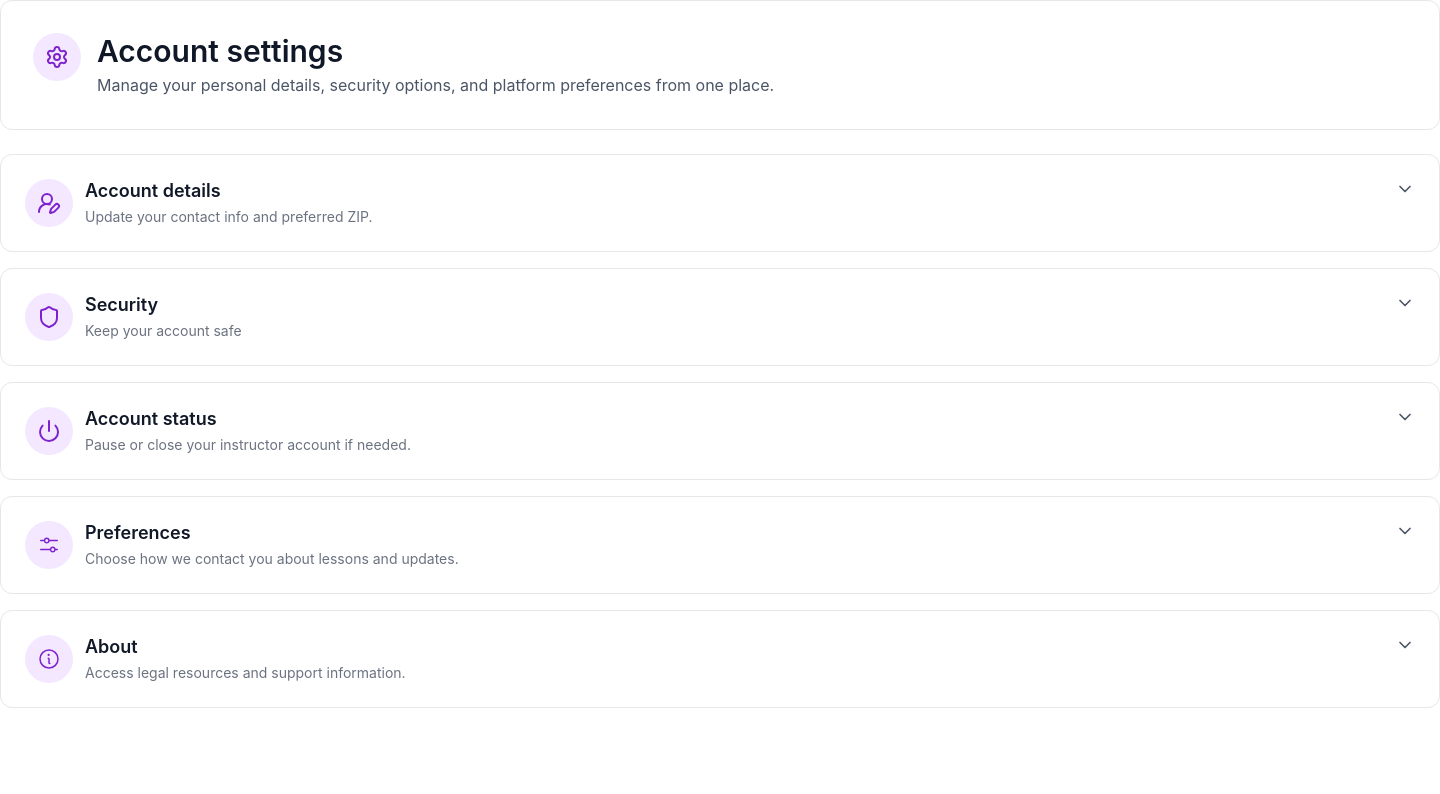
SettingsImpl › renders the enabled 2FA state and opens the disable flow from the merged Security section
The width and height of the screenshot is (1440, 794).
Click the button "Security Keep your account safe". click: (49, 317)
box: [25,293,1415,341]
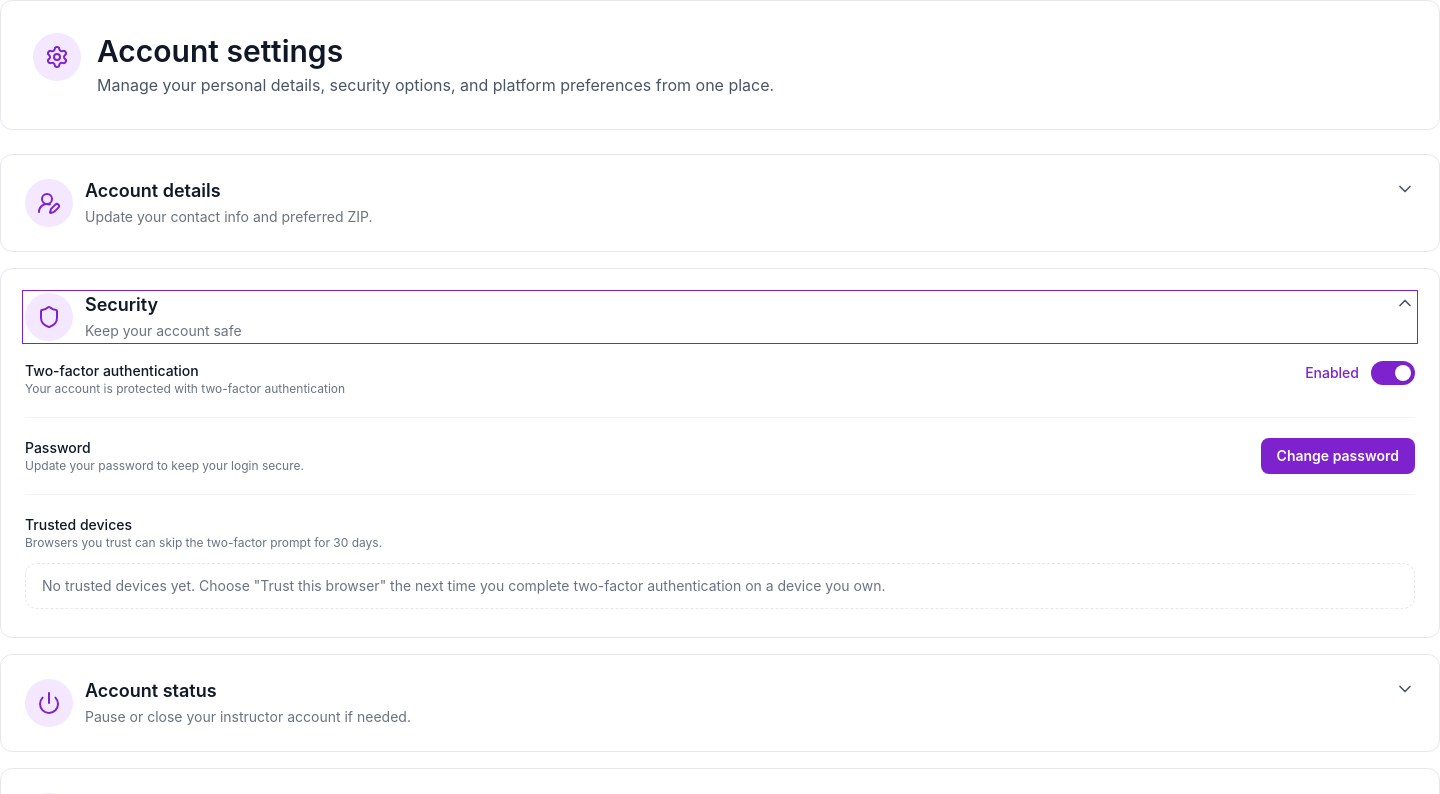
Expected: the text "Enabled" is shown, [1305,363,1359,383]
Expected: the text "Your account is protected with two-factor authentication" is shown, [25,381,345,397]
Click the switch named "Two-factor authentication". click: (1393, 373)
box: [1371,361,1415,385]
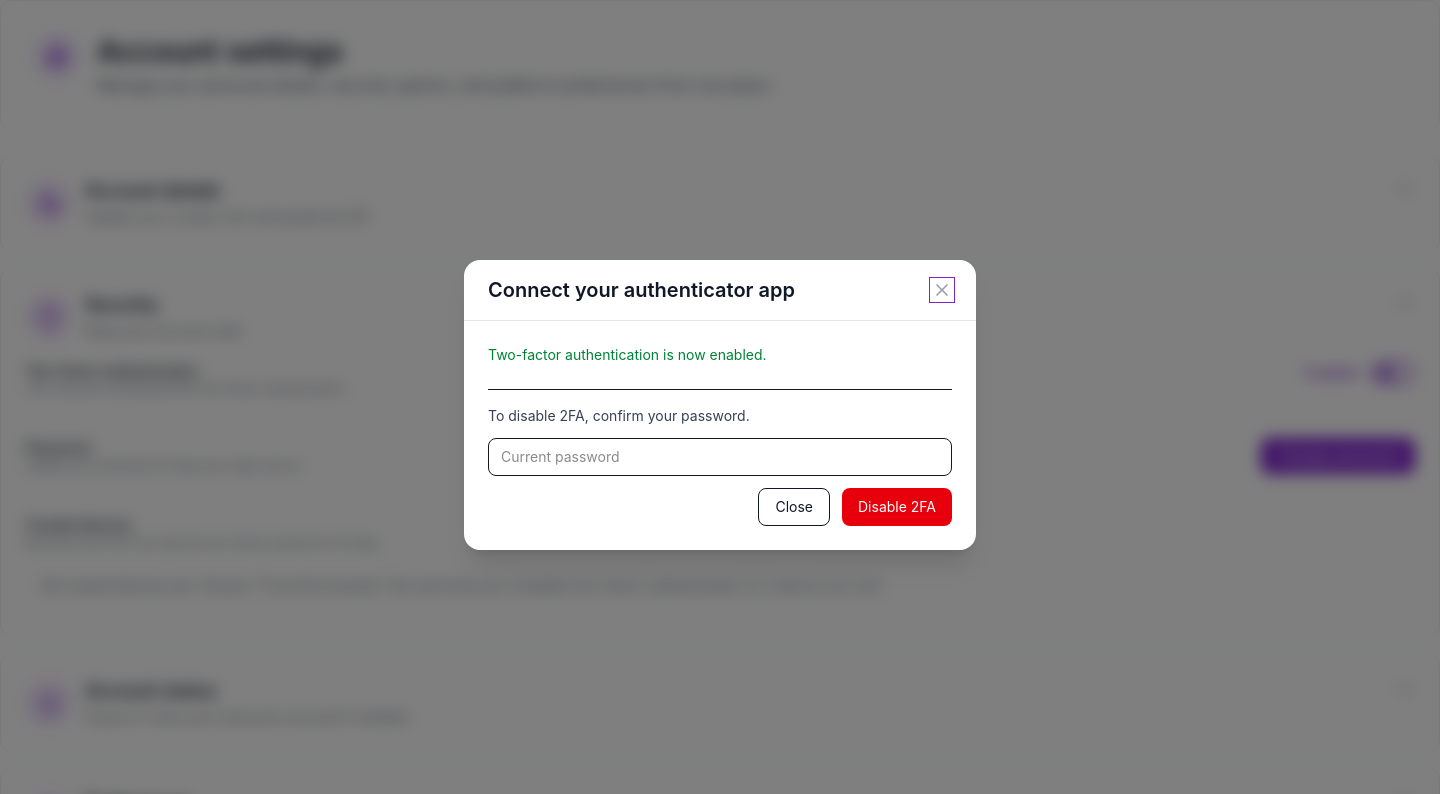
Expected: the text "To disable 2FA, confirm your password." is shown, [488,407,750,424]
Expected: the button "Disable 2FA" is shown, [842,488,952,526]
